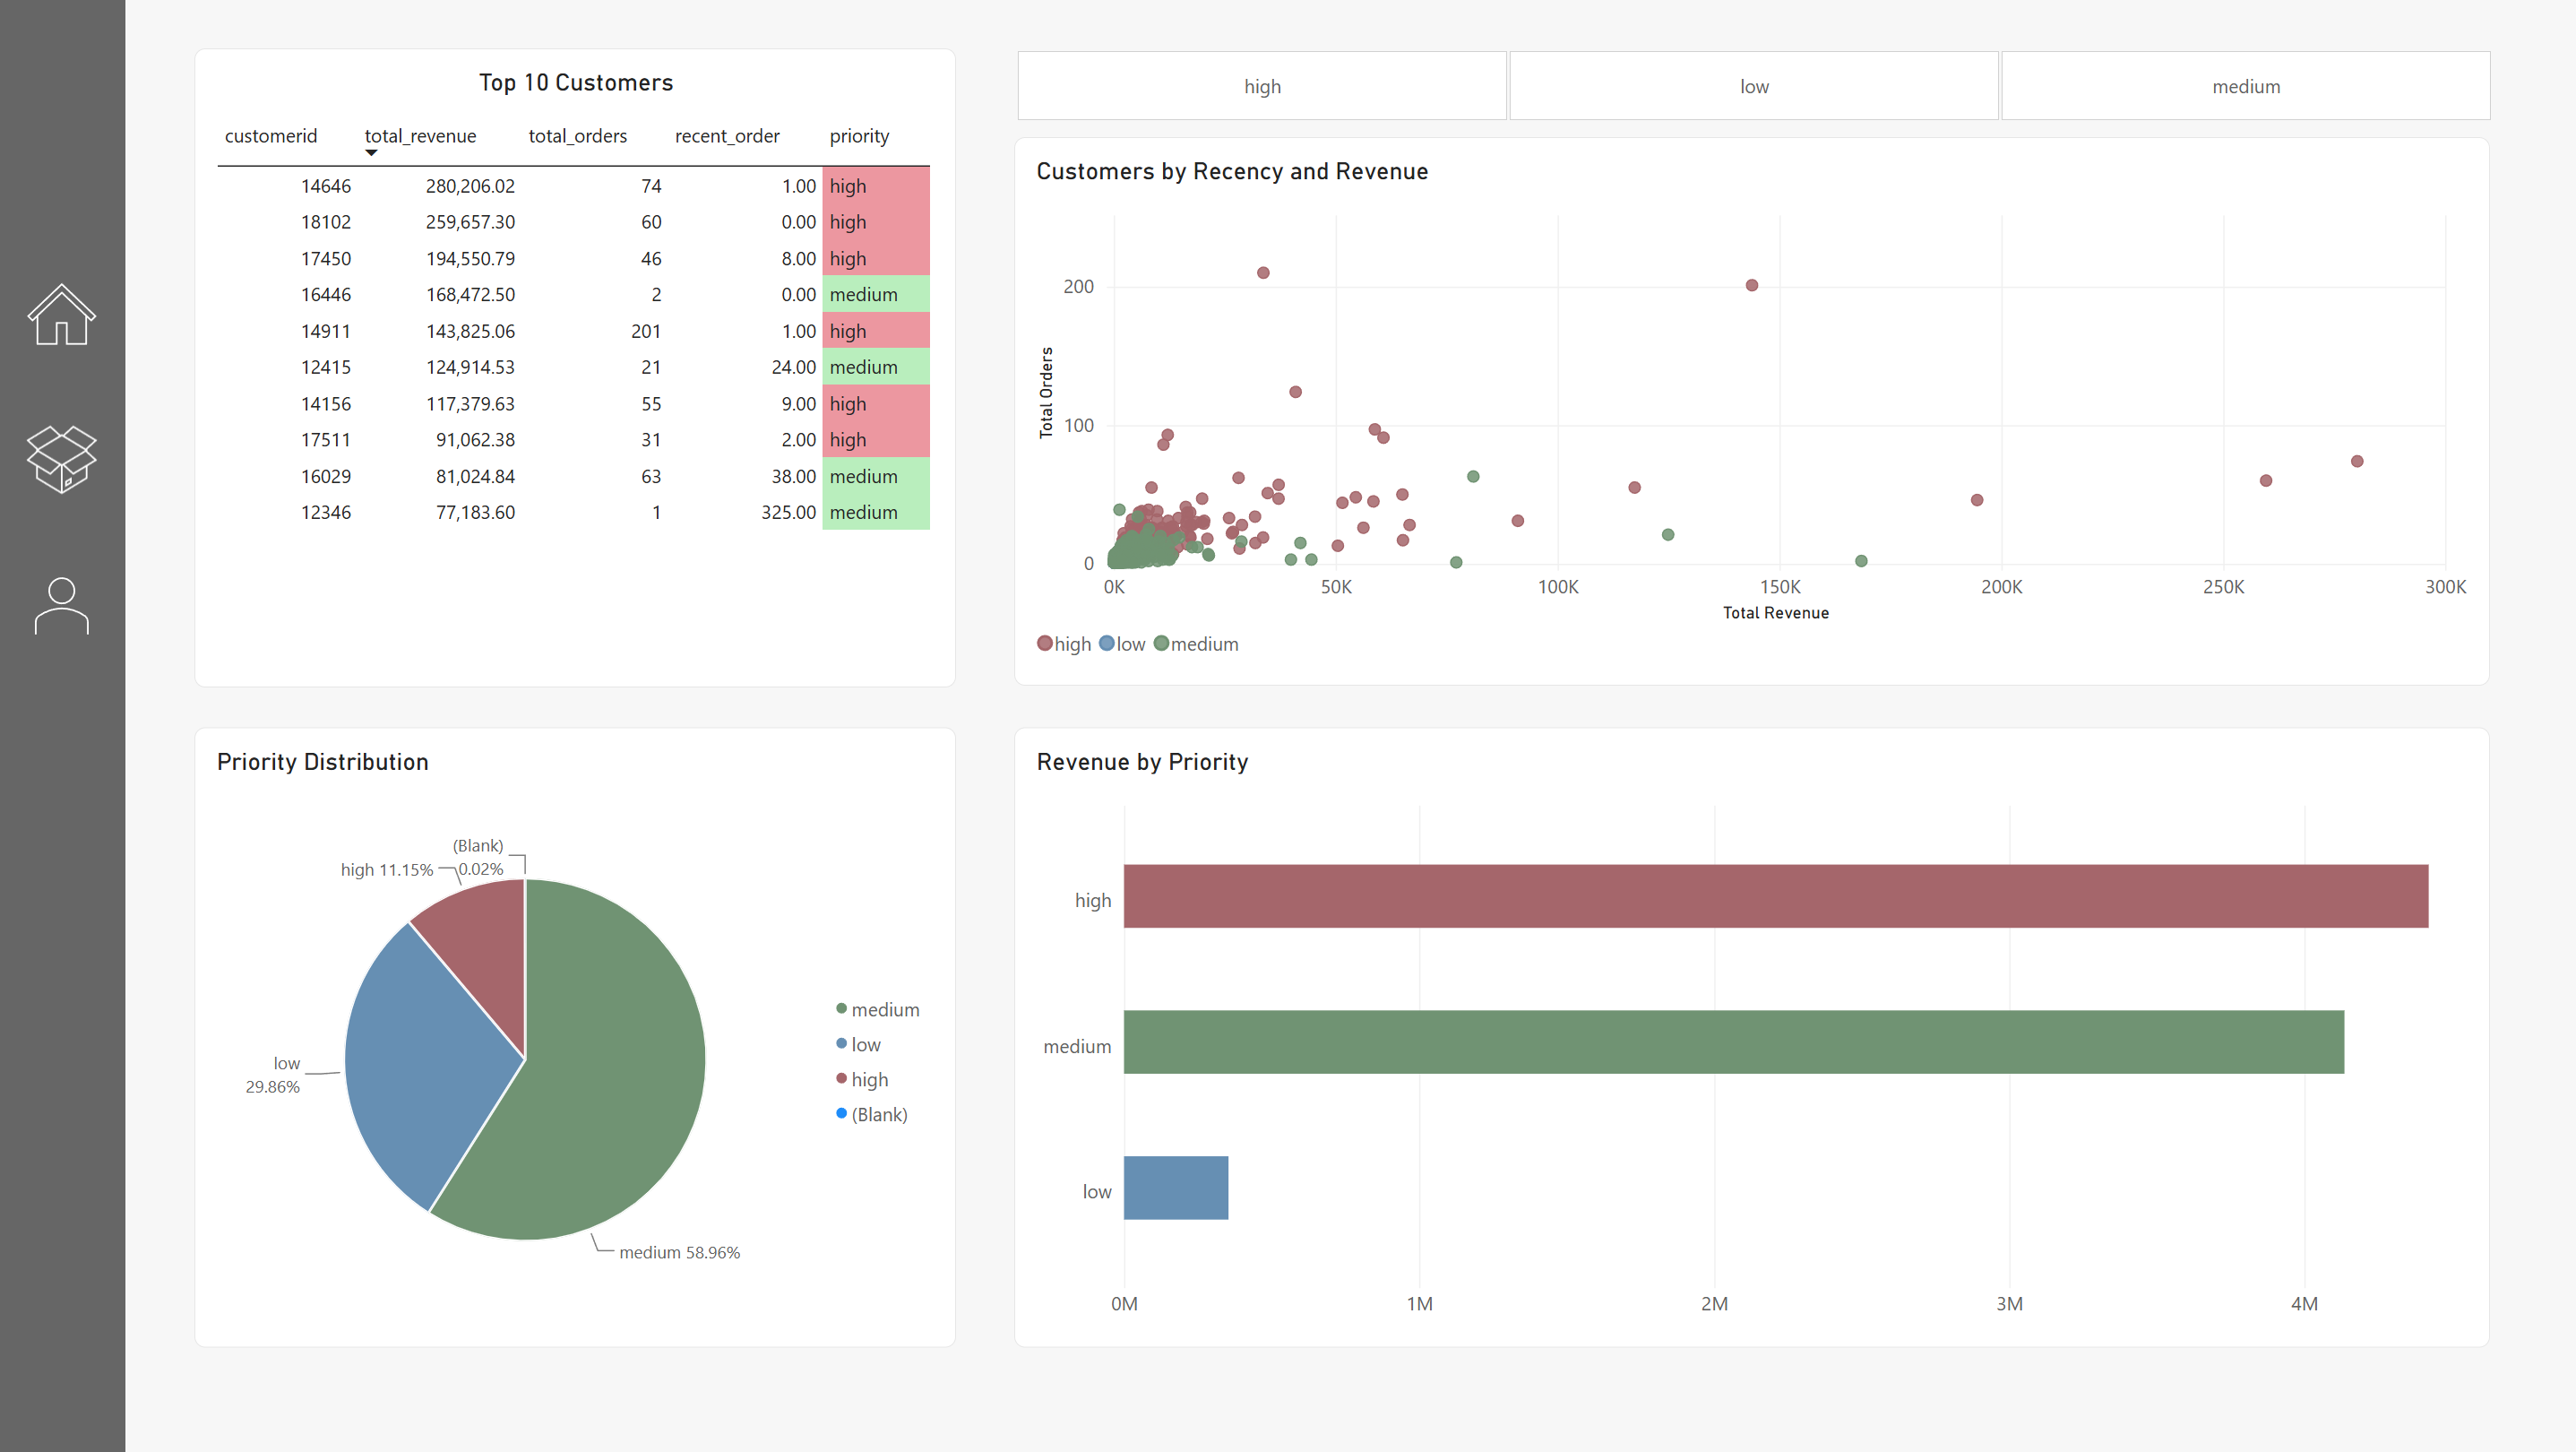

The page's visual inventory and layout, read from the dashboard file:
{"tool":"powerbi","page":{"name":"Customers & RFM","canvas":[1920,1080],"ordinal":2},"visuals":[{"type":"shape","box":[0,0,94.7,1080],"z":0},{"type":"pieChart","title":"Priority Distribution","fields":{"Category":["customer_rfm.priority"],"Y":["Measures Table.Total Customers"]},"box":[146.4,540.6,567,461.3],"z":1000},{"type":"clusteredBarChart","title":"Revenue by Priority","fields":{"Category":["customer_rfm.priority"],"Y":["Sum(customer_rfm.total_revenue)"]},"box":[756.3,540.6,1097.6,461.3],"z":2000},{"type":"tableEx","title":"Top 10 Customers","fields":{"Values":["customer_rfm.customerid","customer_rfm.total_revenue","customer_rfm.total_orders","customer_rfm.recent_order","customer_rfm.priority"]},"box":[146.4,36.3,567,474.5],"z":3000},{"type":"scatterChart","title":"Customers by Recency and Revenue","fields":{"Category":["customer_rfm.customerid"],"Series":["customer_rfm.priority"],"X":["customer_rfm.total_revenue"],"Y":["Sum(customer_rfm.total_orders)"]},"box":[756.3,102.4,1097.6,407.3],"z":4000},{"type":"slicer","fields":{"Values":["customer_rfm.priority"]},"box":[737.6,36.3,1136.1,55],"z":5000},{"type":"actionButton","box":[0,287,95,109],"z":5001},{"type":"actionButton","box":[0,396,95,109],"z":5002},{"type":"actionButton","box":[0,178,95,109],"z":5003}]}

Visuals, with their boxes on the page's 1920x1080 design canvas (x1, y1, x2, y2). These are canvas units, not pixel positions in the 2576x1452 screenshot, which may show the page scaled, cropped or inside an application window:
shape: (0,0,95,1080)
"Priority Distribution" pieChart: (146,541,713,1002)
"Revenue by Priority" clusteredBarChart: (756,541,1854,1002)
"Top 10 Customers" tableEx: (146,36,713,511)
"Customers by Recency and Revenue" scatterChart: (756,102,1854,510)
slicer - customer_rfm.priority: (738,36,1874,91)
actionButton: (0,287,95,396)
actionButton: (0,396,95,505)
actionButton: (0,178,95,287)
